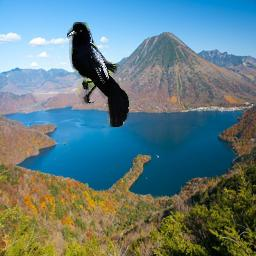Crow: (67, 22, 129, 127)
